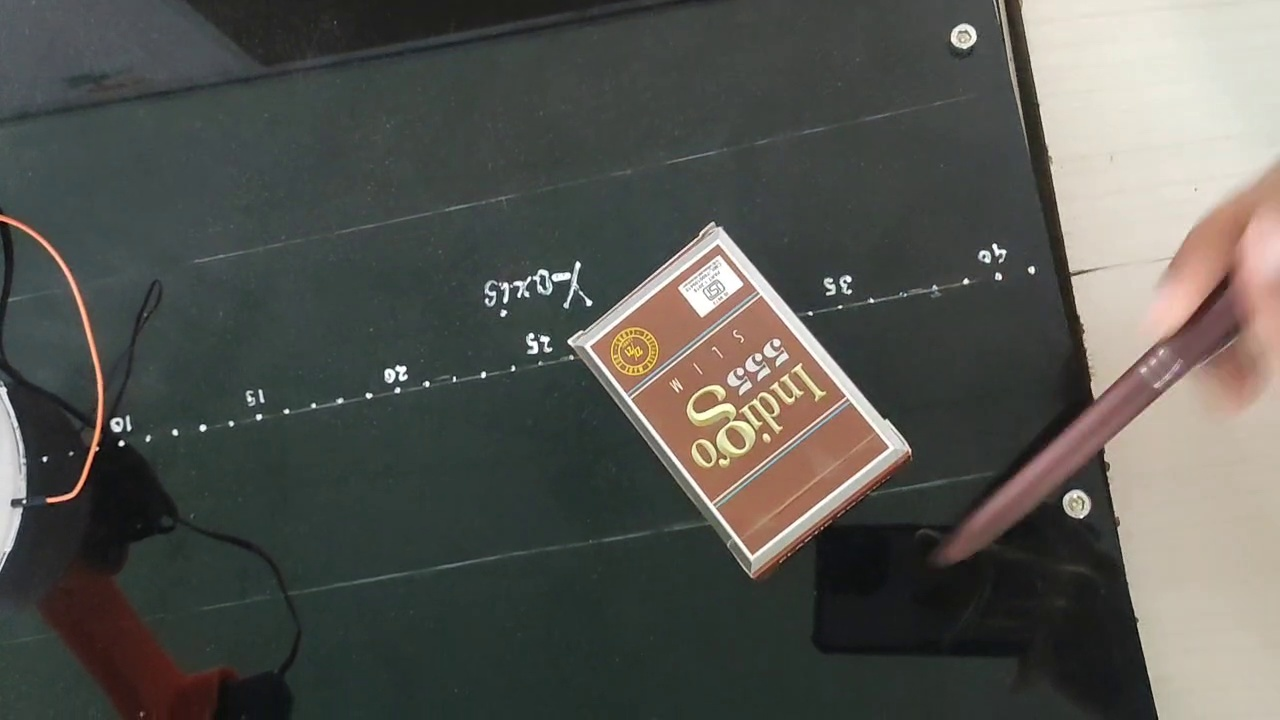BEX: (585, 239, 892, 560)
